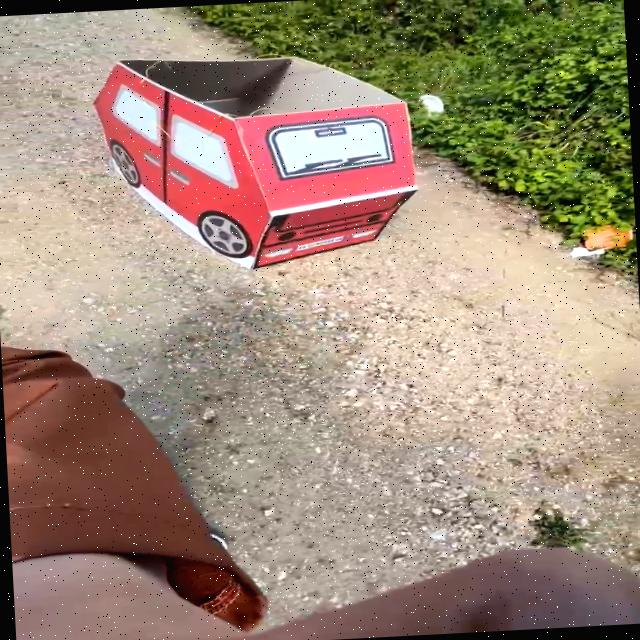red_car: (91, 29, 435, 294)
